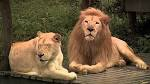lion: (69, 9, 146, 73), (10, 31, 69, 83)
